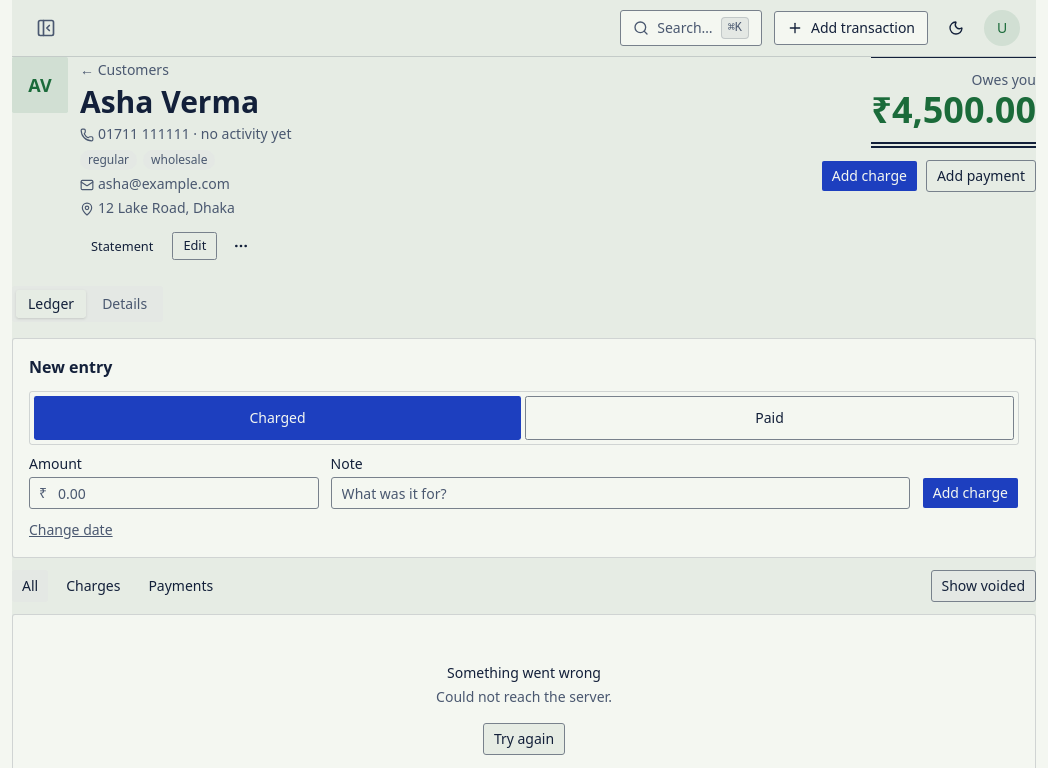
Test: S-31 customer detail v2 › error: the ledger failure shows an ErrorState whose retry re-reads
Expected: the tab "Ledger" is shown, [16,290,86,318]
Expected: the text "Could not reach the server." is shown, [436,687,612,706]
Click the button "Try again" at (524, 739), box [483,723,565,755]
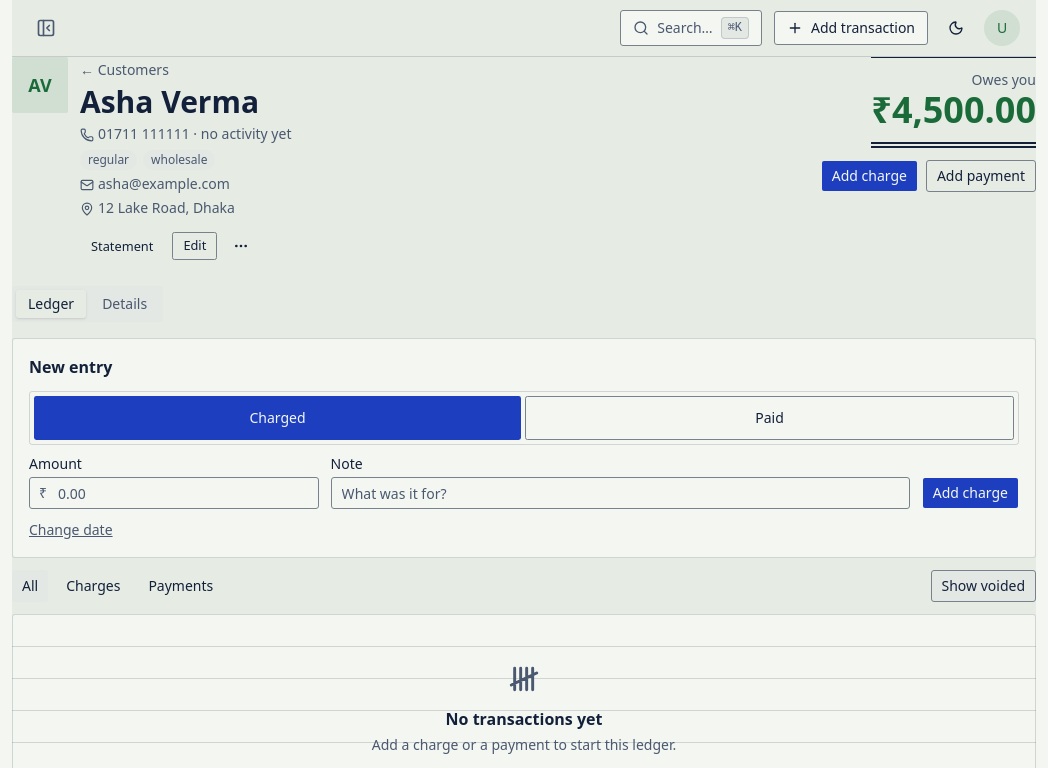
Expected: the text "No transactions yet" is shown, [446,708,602,730]
